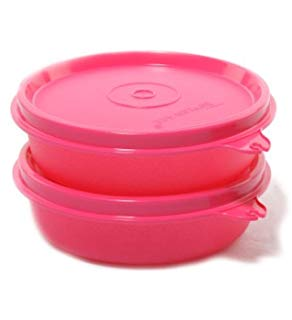Rec_Plastic: (1, 41, 279, 273)
